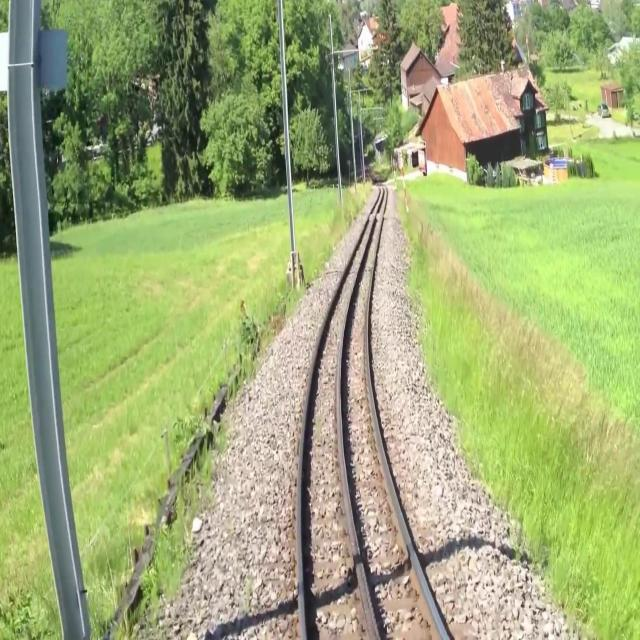rail-track: (301, 153, 443, 639)
